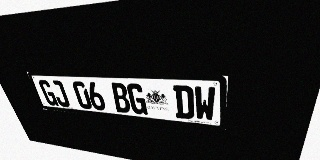0: (71, 81, 93, 109)
6: (85, 82, 107, 111)
B: (110, 82, 132, 113)
D: (173, 85, 194, 119)
G: (126, 83, 148, 115), (37, 80, 59, 106)
J: (49, 80, 71, 107)
W: (194, 86, 216, 122)
